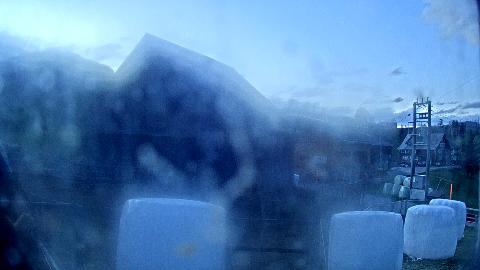car: (418, 161, 426, 167)
sheep: (6, 212, 36, 228)
